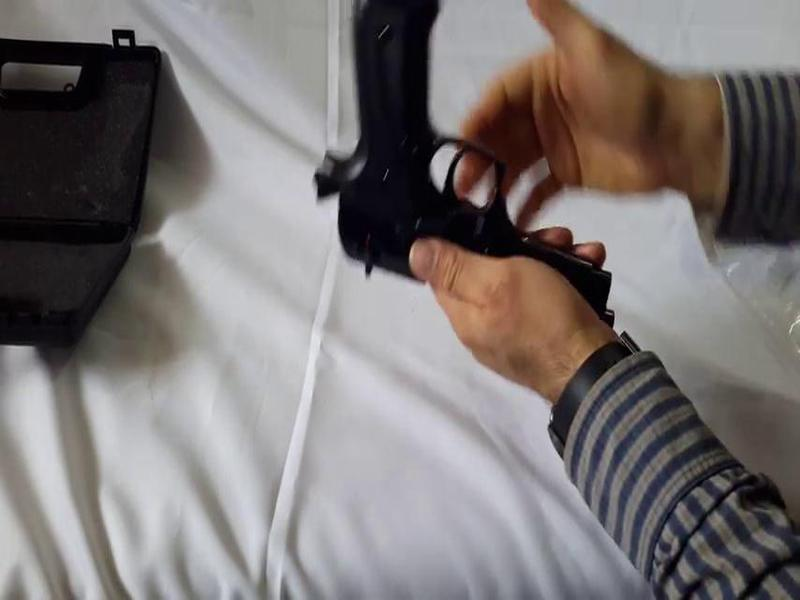Pistola: (199, 1, 653, 338)
